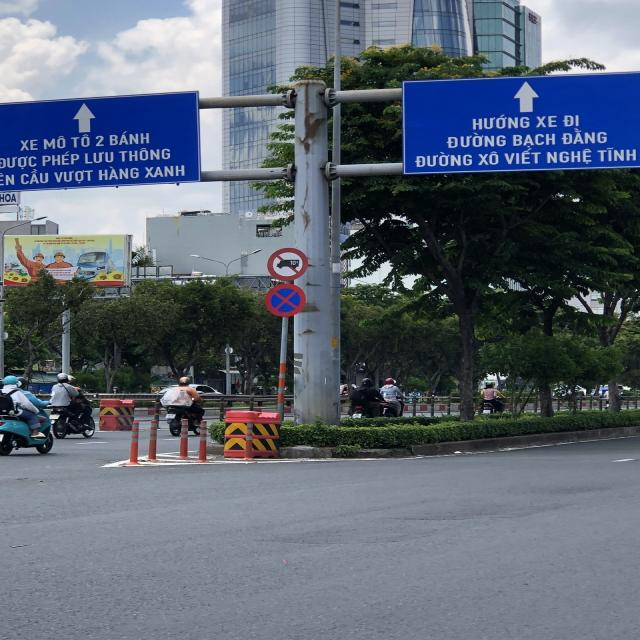Bien bao cam dung xe va do xe: (261, 282, 310, 319)
Bien bao cam xe oto tai: (265, 244, 308, 282)
